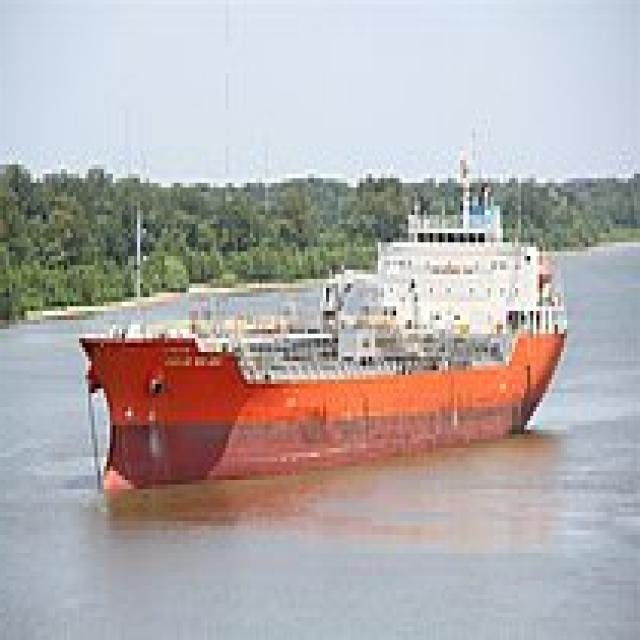Tanker: (82, 151, 573, 494)
